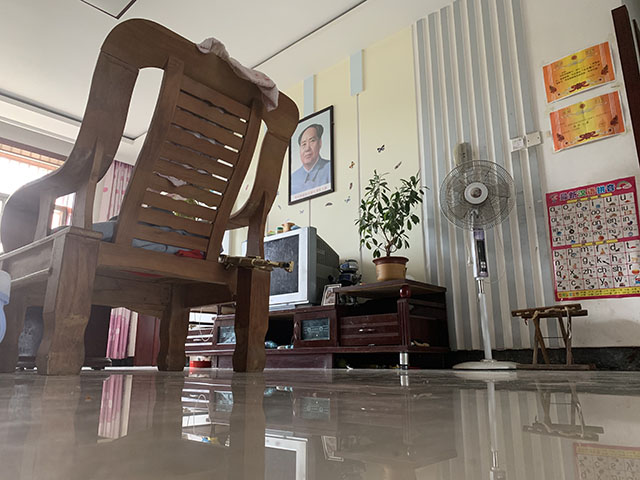cabinet: (185, 276, 452, 370)
sofa: (1, 17, 301, 376)
stool: (510, 303, 593, 372)
